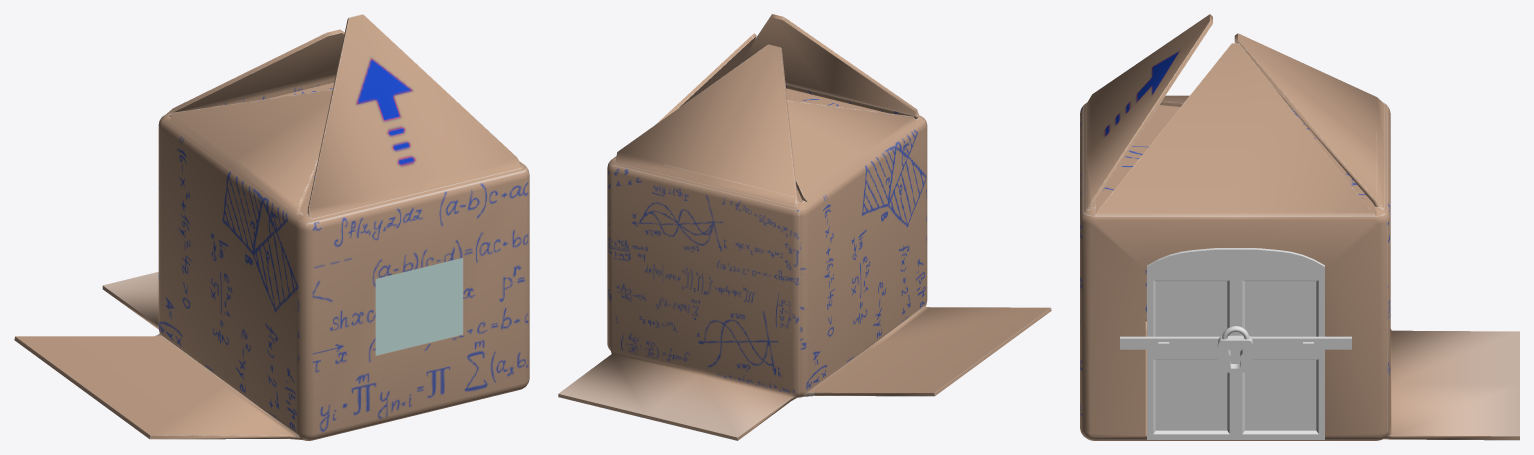
Rendered from blauw huisje.fbx.
3 views of the same model, side by side, from view 1: azimuth 30°, elevation 25°; view 2: azimuth 150°, elevation 25°; view 3: azimuth 270°, elevation 25° (orthographic). The views are drawn at different scales.
Visible parts, largest first — view 1: Cube_4; view 2: Cube_4; view 3: Cube_4, Cube, Cube_1, Torus_1.
Boxes of the visible parts, box(x1,y1,x2,y2) form: Cube_4: box(14, 14, 529, 440); Cube_4: box(558, 14, 1051, 440); Cube_4: box(1080, 14, 1519, 440); Cube: box(1147, 248, 1324, 439); Cube_1: box(1120, 336, 1351, 349); Torus_1: box(1217, 326, 1253, 372).
Bounding box in the file's own units: 1122 × 969 × 1045.
1 material, 1 textured.
